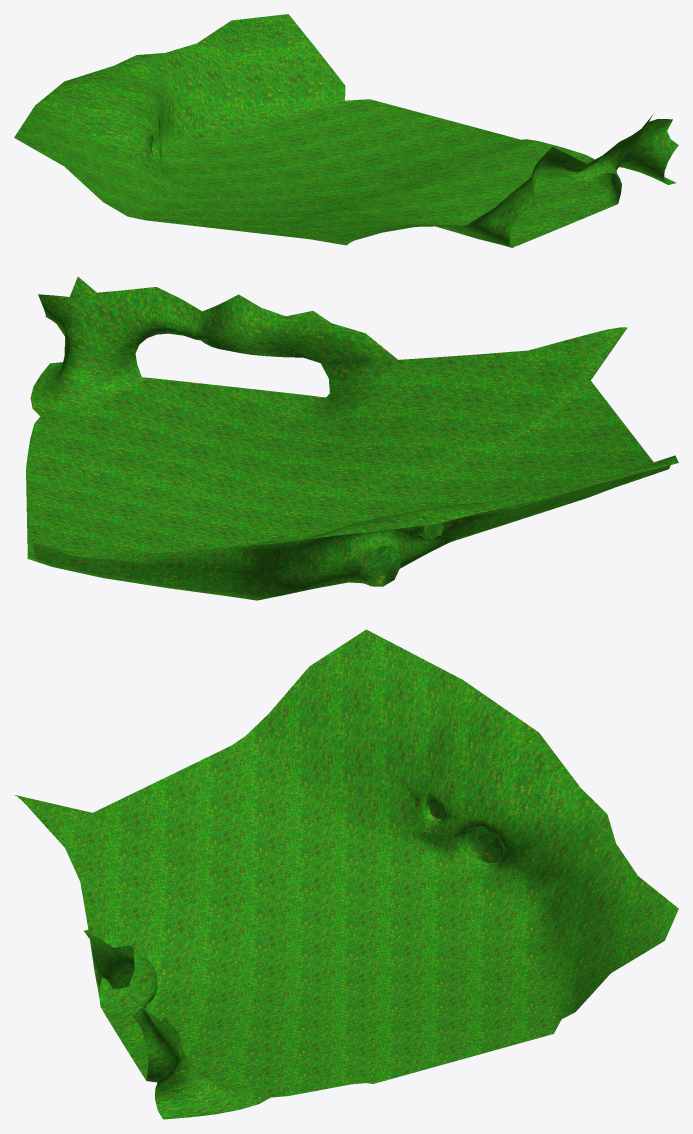
Rendered from HTOWN01_PS22.fbx.
3 renders of one model, top to bottom at view 1: azimuth 30°, elevation 25°; view 2: azimuth 150°, elevation 25°; view 3: azimuth 270°, elevation 25°, orthographic. The views are drawn at different scales.
Parts seen in each view (by area): view 1: HTOWN01_PS22; view 2: HTOWN01_PS22; view 3: HTOWN01_PS22.
Boxes of the visible parts, box(x1,y1,x2,y2) form: HTOWN01_PS22: box(14, 14, 678, 247); HTOWN01_PS22: box(26, 276, 678, 600); HTOWN01_PS22: box(15, 629, 678, 1119).
Bounding box in the file's own units: 371811 × 78534 × 305784.
2 materials, 2 textured.
